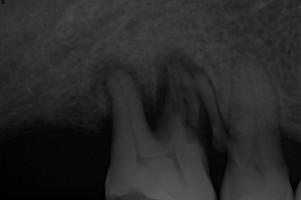Dental Caries: (90, 49, 200, 118)
Endo-Periodontal Lesion: (145, 109, 163, 130)
